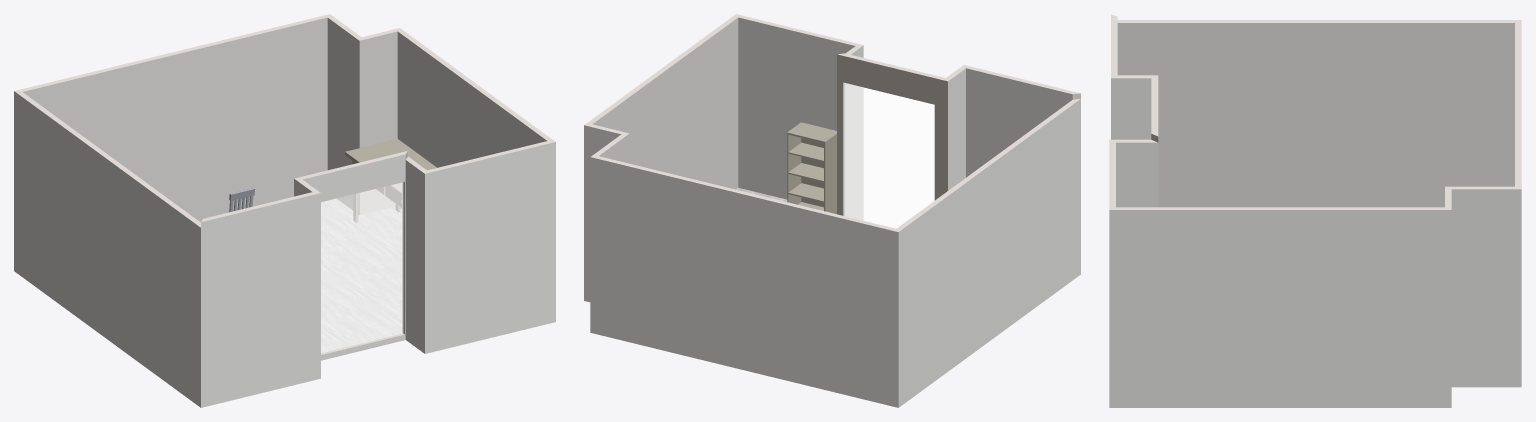
Rendered from tutoroom.glb.
3 renders of one model, left to right at view 1: azimuth 30°, elevation 25°; view 2: azimuth 150°, elevation 25°; view 3: azimuth 270°, elevation 25°, orthographic. The views are drawn at different scales.
Parts seen in each view (by area): view 1: wall_26, wall_7, wall_5, wall_1, door_0, door_2, floor_Other, wall_22, wall_16, wall_28, wall_2, wall_4 (+5 smaller); view 2: wall_8, wall_7, wall_22, wall_20, door_0, door_2, wall_12, wall_18, storage_shelf0, wall_2, wall_10, wall_3 (+6 smaller); view 3: wall_6, wall_24, wall_9, wall_14, wall_0, wall_25, wall_27, wall_23, wall_21, wall_19, wall_13.
Boxes of the visible parts, x1,y1,x2,y2 form: wall_26: (23,17,327,222); wall_7: (14,91,200,407); wall_5: (425,142,555,353); wall_1: (201,193,320,407); door_0: (321,182,402,353); door_2: (321,182,402,352); floor_Other: (321,198,402,353); wall_22: (397,31,546,208); wall_16: (359,31,397,214); wall_28: (327,18,359,214); wall_2: (405,160,424,353); wall_4: (303,154,405,360); wall_8: (590,157,898,407); wall_7: (898,99,1080,407); wall_22: (593,18,738,189); wall_20: (738,17,855,199); door_0: (844,83,934,228); door_2: (844,83,934,228); wall_12: (966,68,1072,177); wall_18: (837,54,947,215); storage_shelf0: (787,122,836,214); wall_2: (846,45,863,220); wall_10: (948,68,965,190); wall_3: (584,125,620,302); wall_6: (1109,210,1451,407); wall_24: (1117,23,1514,207); wall_9: (1451,189,1521,387); wall_14: (1116,142,1158,207); wall_0: (1111,78,1151,139); wall_25: (1117,20,1521,22); wall_27: (1515,20,1521,189); wall_23: (1110,207,1450,209); wall_21: (1109,140,1115,209); wall_19: (1151,75,1158,136); wall_13: (1111,14,1117,77).
Size of the model in its own units: 6.67 by 3.34 by 6.12.
Materials: 27 (1 with a texture image).
